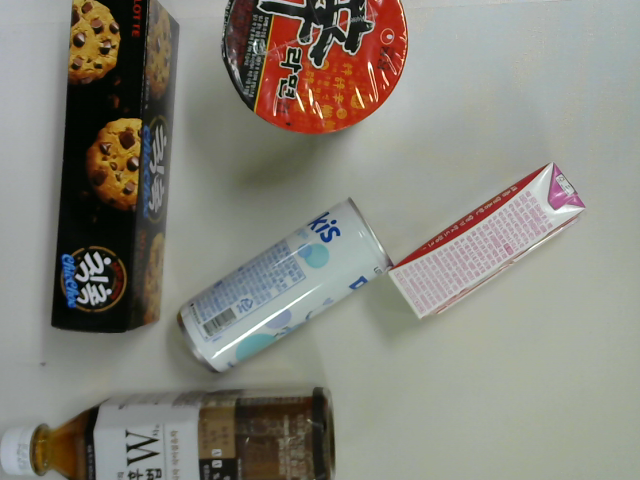Chicchok_Original_2400: (48, 1, 182, 332)
Milkies_250ml: (178, 200, 397, 375)
Post-meal_recipe_W_tea_500ml: (1, 384, 337, 480)
Sinramen_small: (219, 1, 410, 138)
Strawberry_E_Mong: (388, 160, 588, 319)
